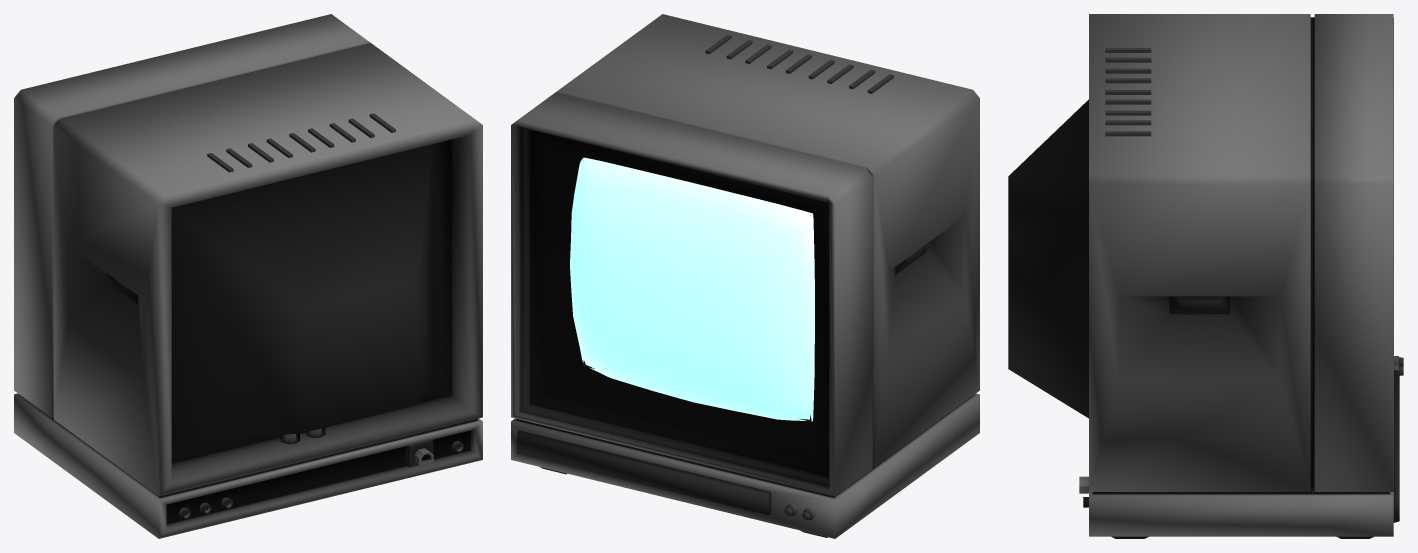
Rendered from crt1.glb.
3 renders of one model, left to right at view 1: azimuth 30°, elevation 25°; view 2: azimuth 150°, elevation 25°; view 3: azimuth 270°, elevation 25°, orthographic. The views are drawn at different scales.
Parts seen in each view (by area): view 1: Cube.051; view 2: Cube.051; view 3: Cube.051.
Part boxes in pixels (x1,y1,x2,y2): Cube.051: (14,14,482,538); Cube.051: (511,14,979,538); Cube.051: (1008,14,1403,538).
Bounding box in the file's own units: 3.93 × 4.13 × 3.94.
